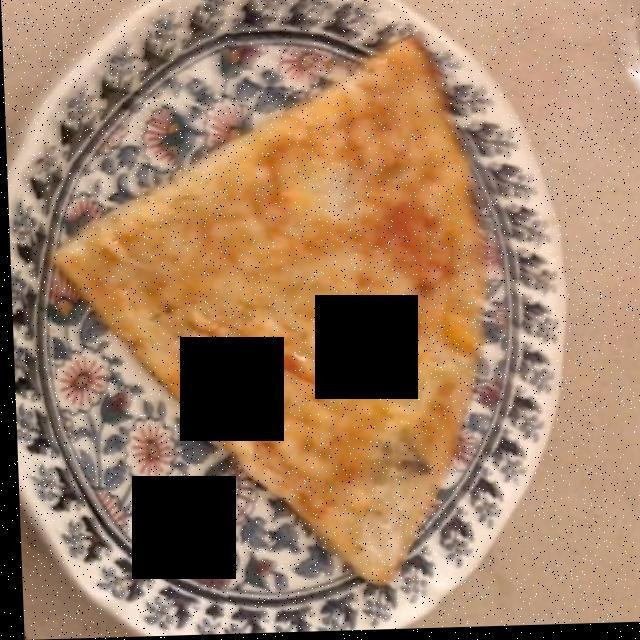pizza: (65, 52, 477, 576)
